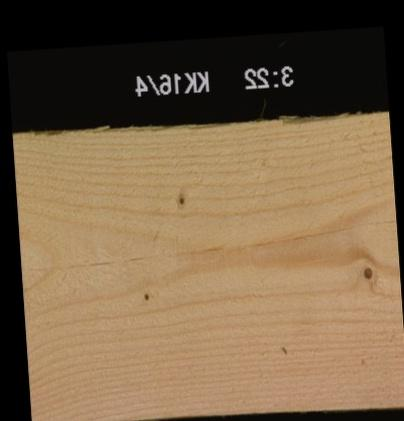small_knot: (362, 262, 374, 280), (142, 289, 152, 301), (177, 193, 186, 206)
wave: (25, 115, 388, 140)
